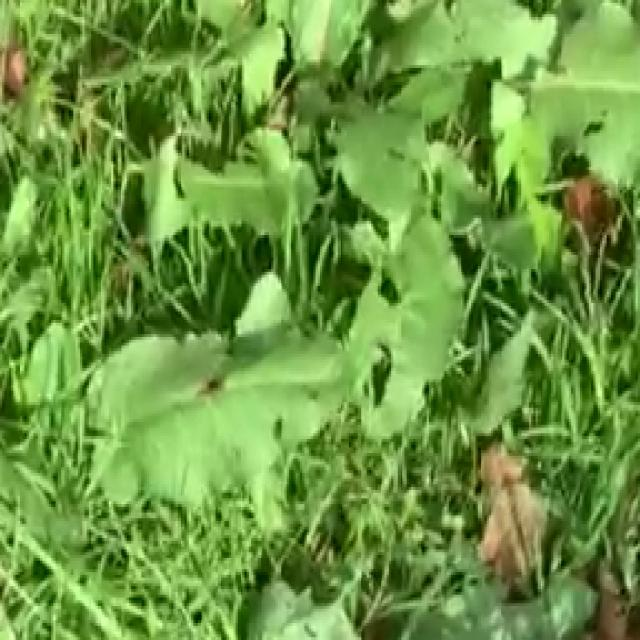organic waste: (64, 17, 640, 558)
